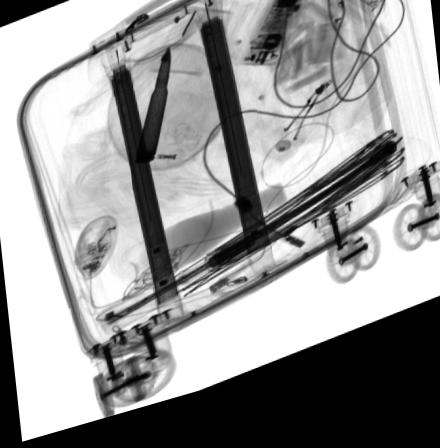Bullet: (133, 54, 171, 170)
